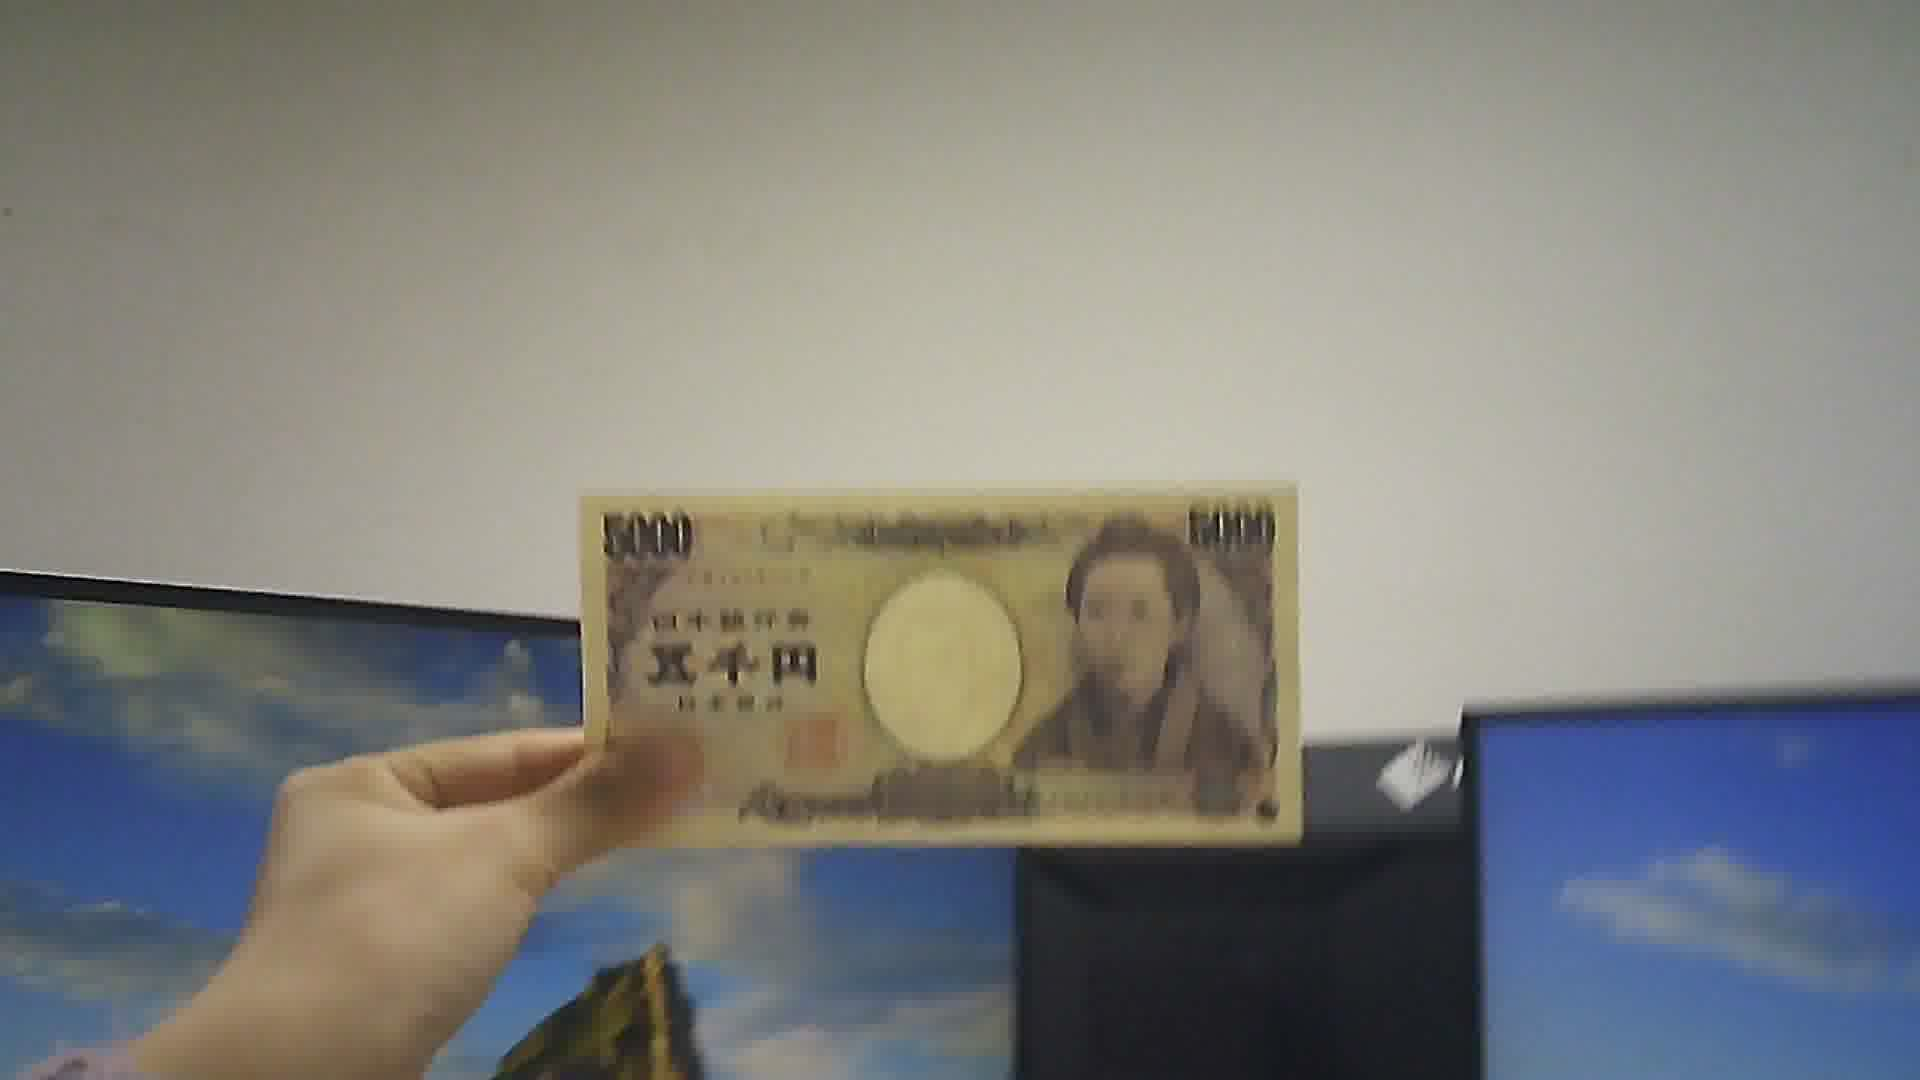5,000 Yen: (568, 476, 1309, 843)
